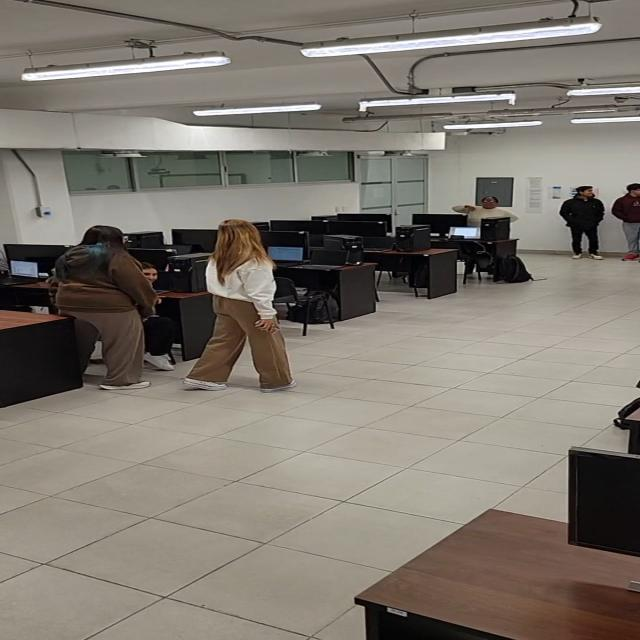Persona: (183, 218, 300, 392), (53, 226, 161, 391), (558, 185, 609, 261), (610, 181, 640, 262)
